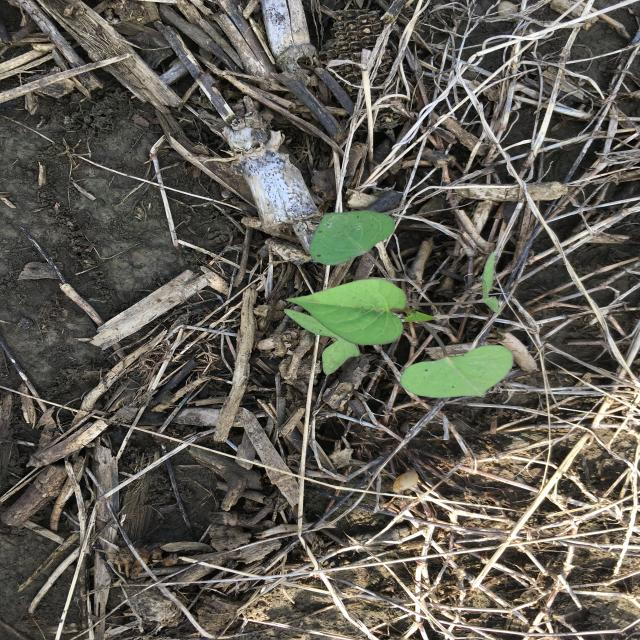MorningGlory: (279, 209, 519, 401)
